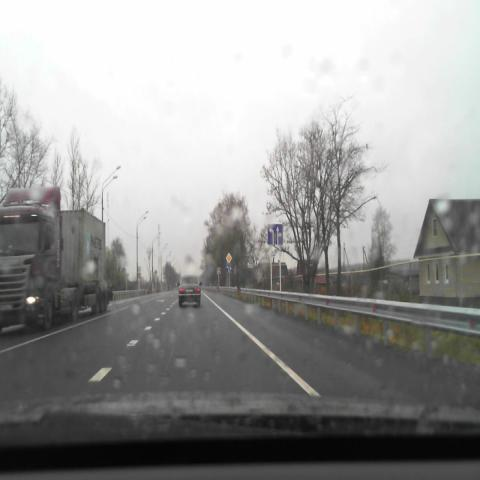5_15_2_2: (268, 223, 282, 245)
